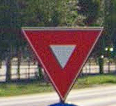cedeaza: (20, 23, 104, 102)
